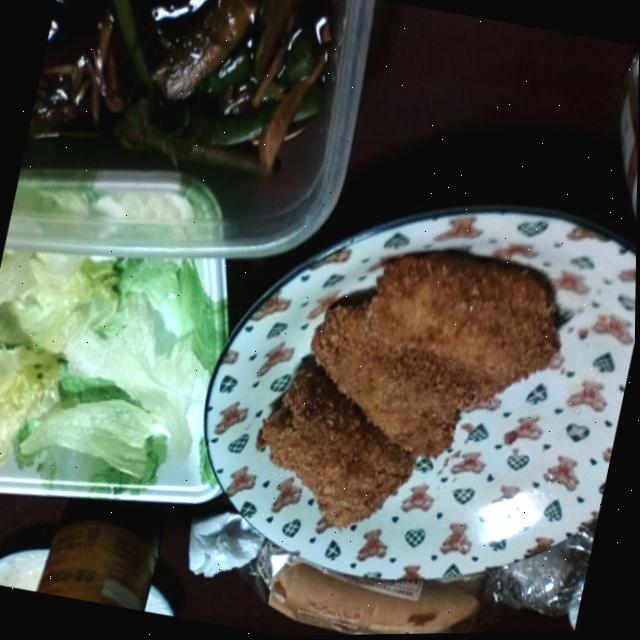炸货点心: (219, 217, 573, 591)
熟制海鲜: (219, 217, 573, 591)
